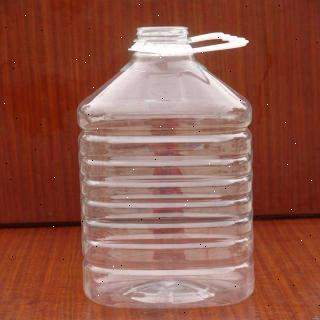Plastic-bottle: (72, 22, 261, 314)
